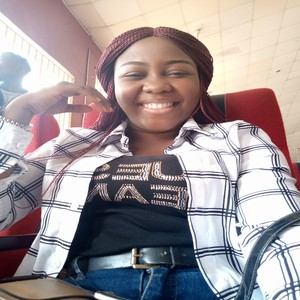Fulokoja_female_student: (77, 25, 241, 300)
